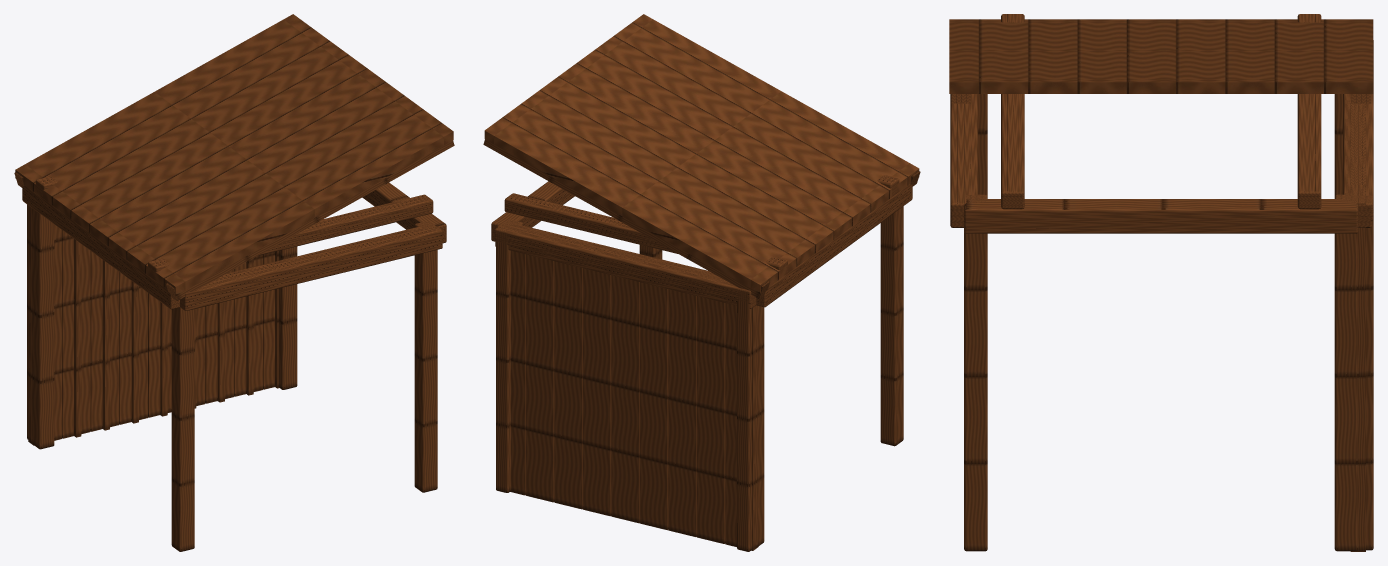
The model's file is rural-scavenging-settlements-woodshed-open-bay-4e50ebd4__26520.glb.
The picture shows the model from 3 angles, left to right: view 1: azimuth 30°, elevation 25°; view 2: azimuth 150°, elevation 25°; view 3: azimuth 270°, elevation 25°; orthographic projection. The views are drawn at different scales.
Visible parts, largest first — view 1: woodshed-open-bay; view 2: woodshed-open-bay; view 3: woodshed-open-bay.
Part boxes in pixels (x1,y1,x2,y2): woodshed-open-bay: (14,14,454,551); woodshed-open-bay: (483,14,920,551); woodshed-open-bay: (949,14,1373,551).
Size of the model in its own units: 2.18 by 2.66 by 2.15.
2 materials, 1 textured.
